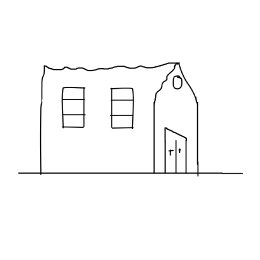closed_window: (106, 82, 144, 133), (59, 82, 90, 133)
door: (160, 123, 195, 177)
single_line_roof: (28, 56, 207, 93)
wall: (35, 57, 180, 179)
